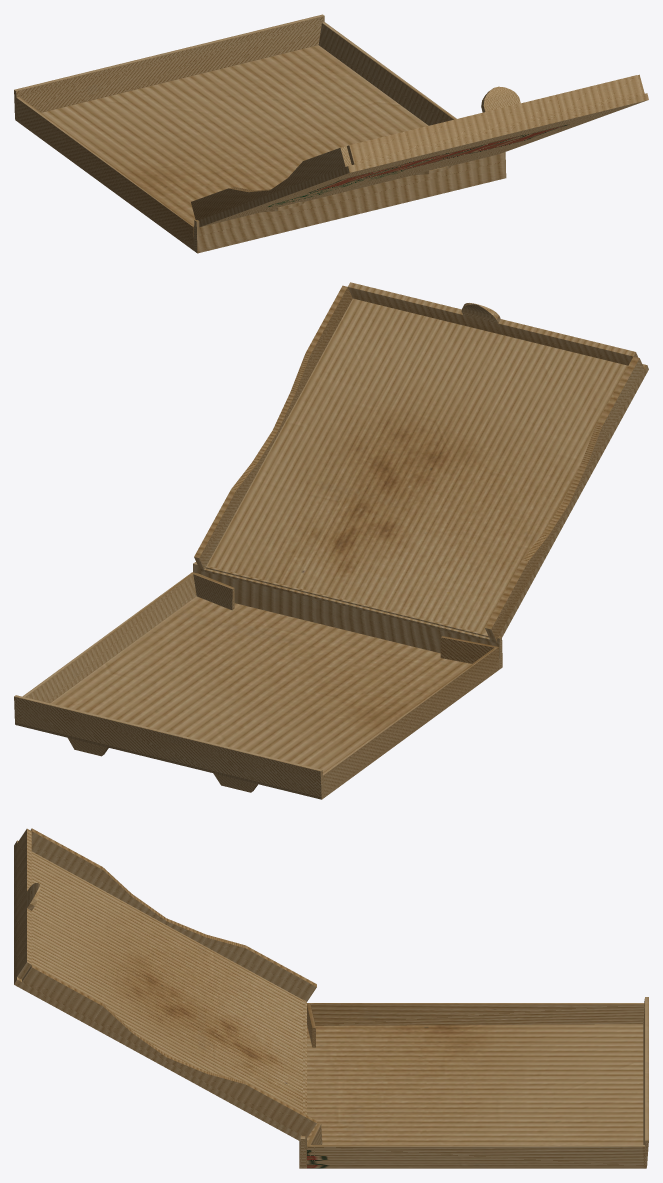
Rendered from Pizzabox NEW.fbx.
3 views of the same model, one above another, from view 1: azimuth 30°, elevation 25°; view 2: azimuth 150°, elevation 25°; view 3: azimuth 270°, elevation 25° (orthographic). The views are drawn at different scales.
Parts seen in each view (by area): view 1: Pizzaboxbottom, Pizzaboxtop; view 2: Pizzaboxtop, Pizzaboxbottom; view 3: Pizzaboxbottom, Pizzaboxtop.
Boxes of the visible parts, x1,y1,x2,y2 form: Pizzaboxbottom: [14, 14, 506, 253]; Pizzaboxtop: [191, 74, 648, 227]; Pizzaboxtop: [194, 282, 648, 642]; Pizzaboxbottom: [14, 562, 502, 799]; Pizzaboxbottom: [299, 997, 648, 1168]; Pizzaboxtop: [14, 828, 316, 1141].
Size of the model in its own units: 200 by 147 by 374.
